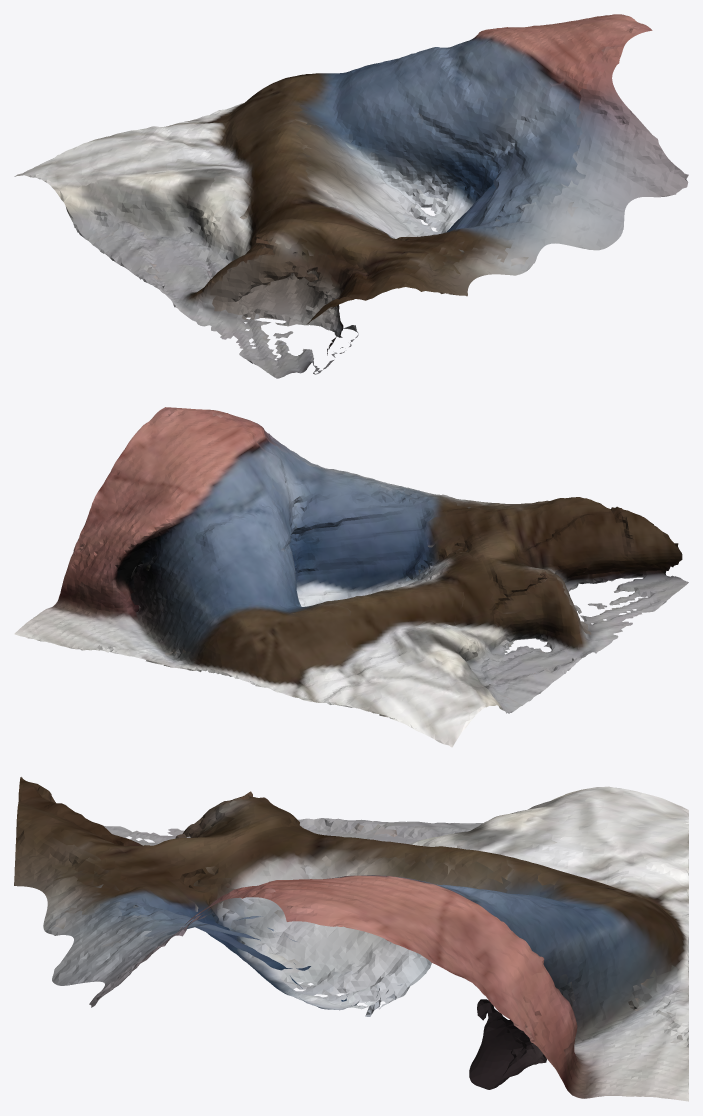
3 renders of one model, top to bottom at view 1: azimuth 30°, elevation 25°; view 2: azimuth 150°, elevation 25°; view 3: azimuth 270°, elevation 25°, orthographic. The views are drawn at different scales.
Bounding box in the file's own units: 0.7285 × 0.2324 × 0.6904.
Materials: 1 (1 with a texture image).
